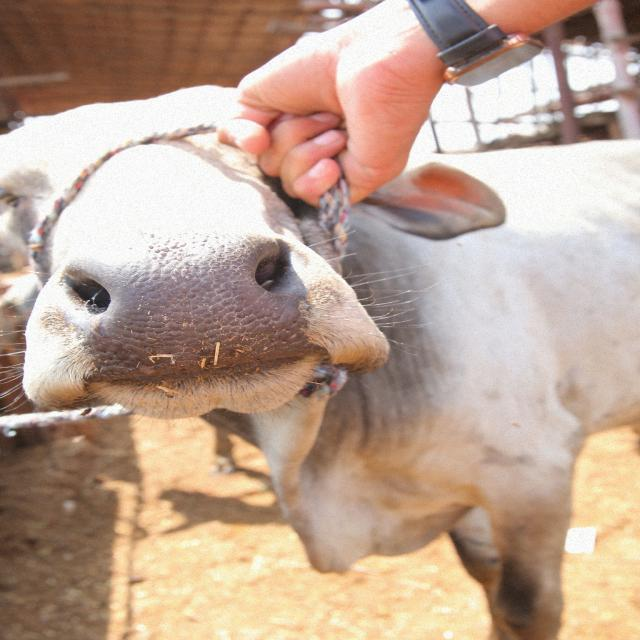muzzles: (39, 234, 337, 387)
